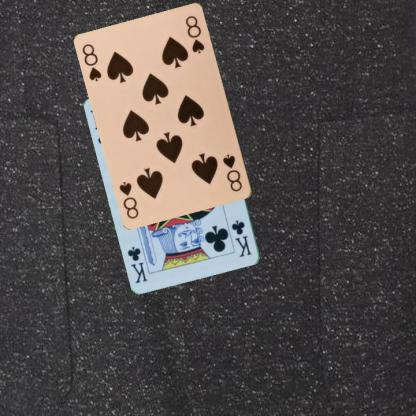8s: (220, 152, 244, 193), (80, 41, 103, 83)
Kc: (229, 217, 253, 259)
